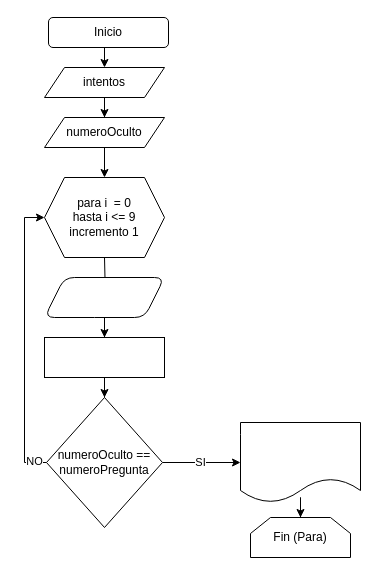
This 378x575 diagram has some shape labels left out. The shapes that lost their labels are listed below. From the top down, each one's box as (x1, y1, x2, y2) in pixels, then its label:
(44, 276, 164, 318): numeroPregunta
(44, 336, 164, 378): intentos ++
(240, 422, 360, 502): "Felicidades as ganado" intentos numeroOculto
